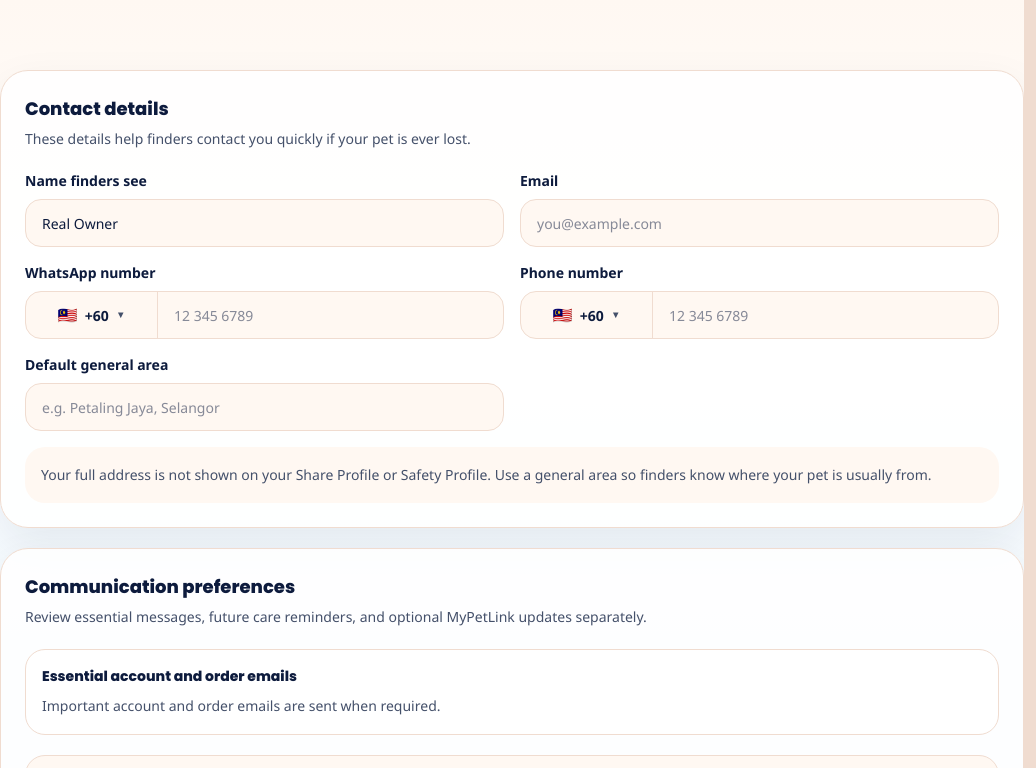
SettingsPanel loading behaviour › reserves action clearance before showing Save after a setting changes
Expected: the button "Save settings" is not shown
Replace the text in the field showing "Real Owner" with "Updated Owner" at (264, 223), box [25, 199, 504, 247]
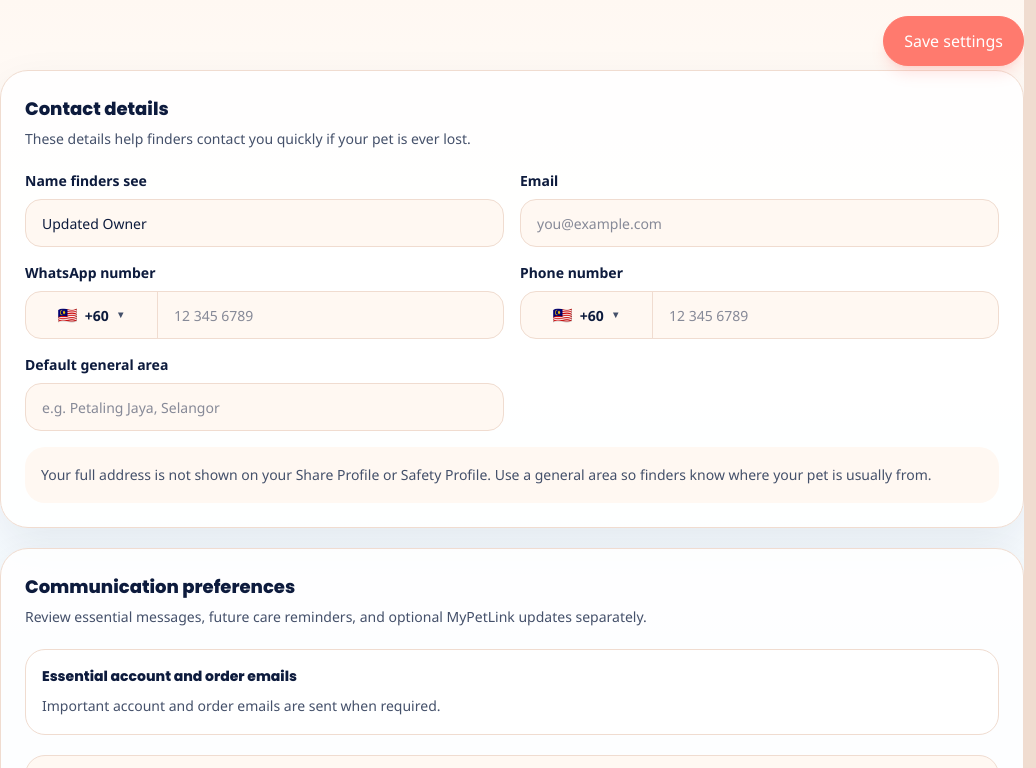
Expected: the button "Save settings" is enabled, [883, 16, 1024, 66]
